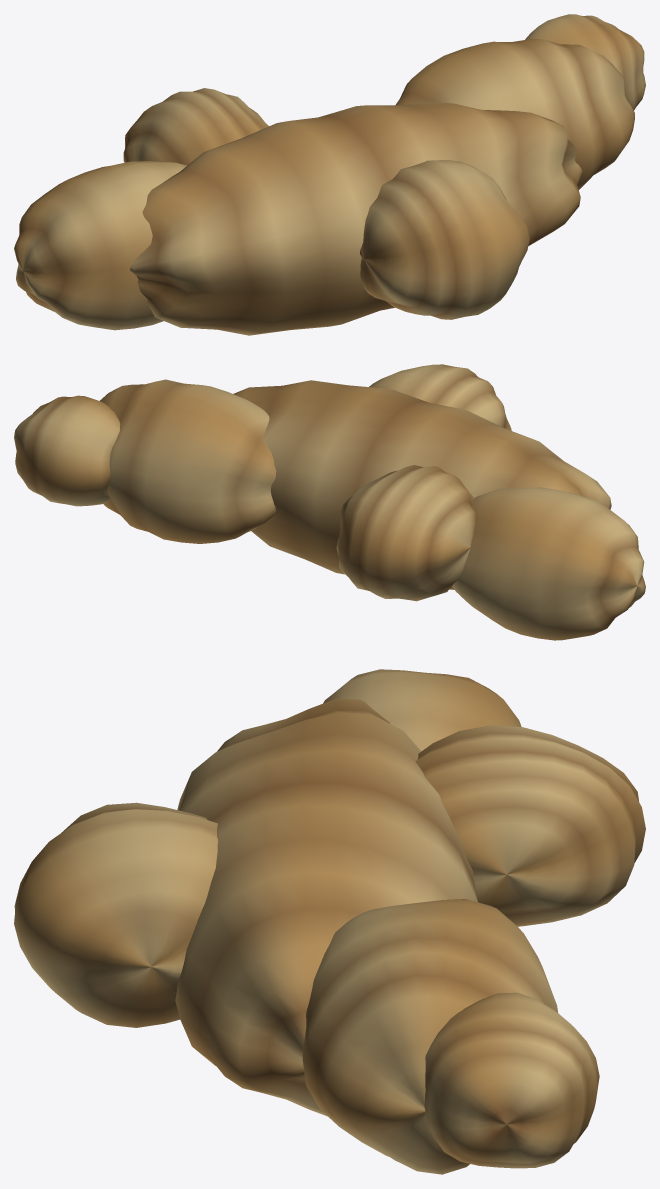
The model's file is gingembre.glb.
The picture shows the model from 3 angles, top to bottom: view 1: azimuth 30°, elevation 25°; view 2: azimuth 150°, elevation 25°; view 3: azimuth 270°, elevation 25°; orthographic projection. The views are drawn at different scales.
Parts seen in each view (by area): view 1: Gingembre; view 2: Gingembre; view 3: Gingembre.
Boxes of the visible parts, bbox=[...] form: Gingembre: bbox=[14, 14, 645, 335]; Gingembre: bbox=[14, 364, 645, 640]; Gingembre: bbox=[14, 669, 645, 1174].
Bounding box in the file's own units: 0.0683 × 0.0187 × 0.0409.
